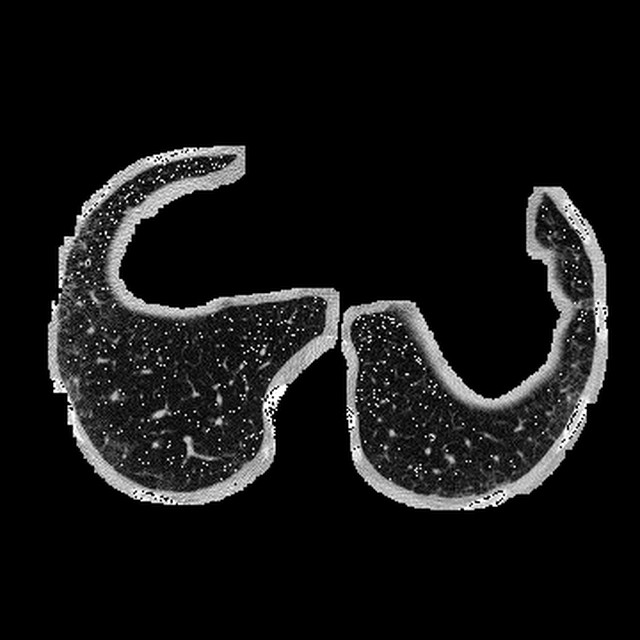PN: (428, 434, 436, 441)
